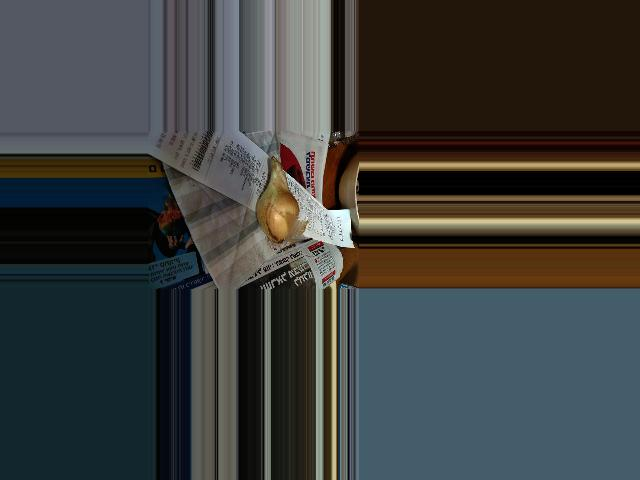onion: (254, 161, 296, 240)
